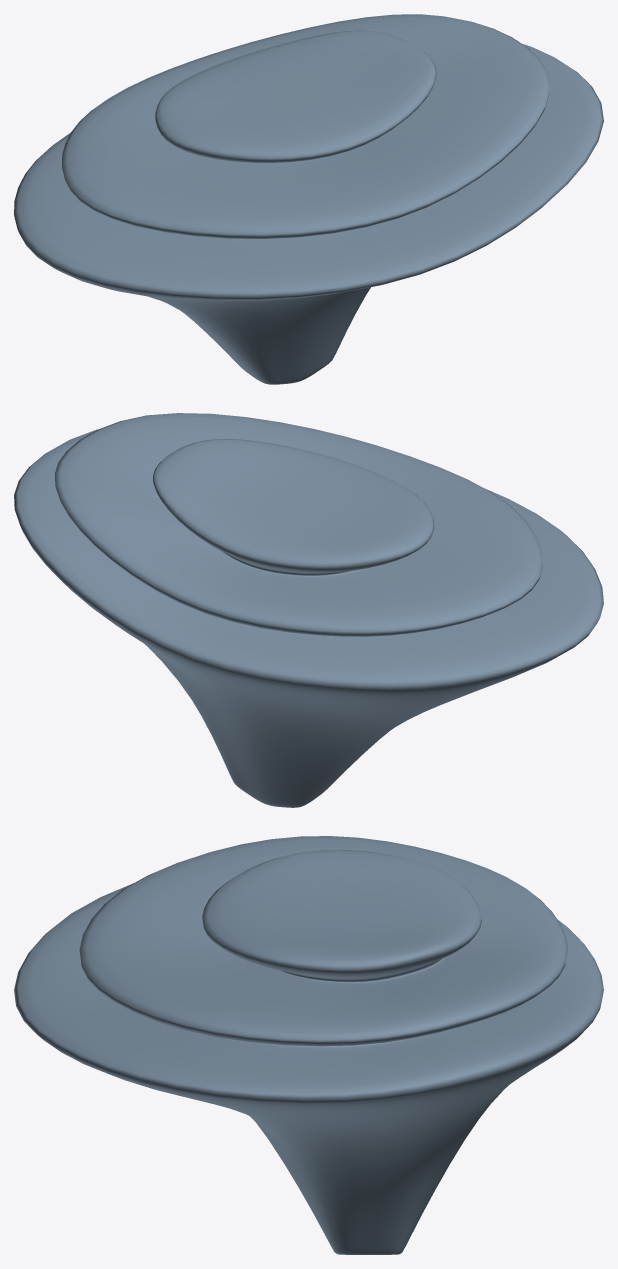
The model's file is Coral_Table1.fbx.
The picture shows the model from 3 angles, top to bottom: view 1: azimuth 30°, elevation 25°; view 2: azimuth 150°, elevation 25°; view 3: azimuth 270°, elevation 25°; orthographic projection. The views are drawn at different scales.
Visible parts, largest first — view 1: CoralT2; view 2: CoralT2; view 3: CoralT2.
Part boxes in pixels (bbox=[...]): CoralT2: bbox=[14, 14, 603, 384]; CoralT2: bbox=[14, 413, 603, 807]; CoralT2: bbox=[14, 836, 603, 1254].
Size of the model in its own units: 10.83 by 5.85 by 8.75.
